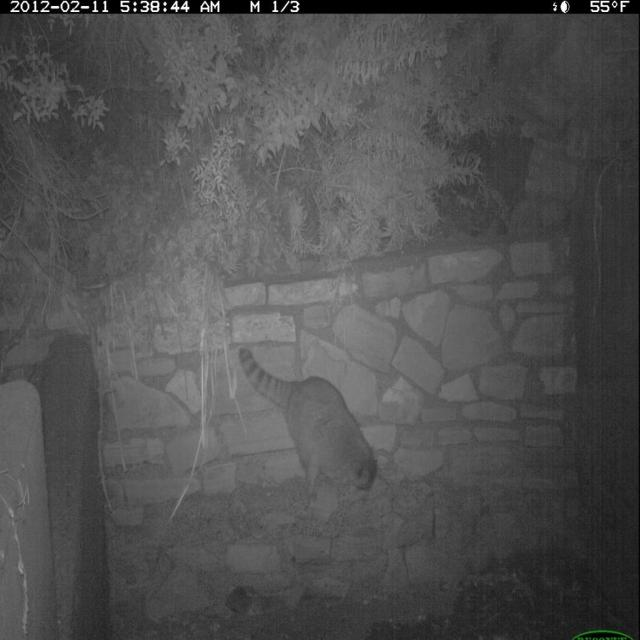raccoon: (236, 340, 380, 509)
